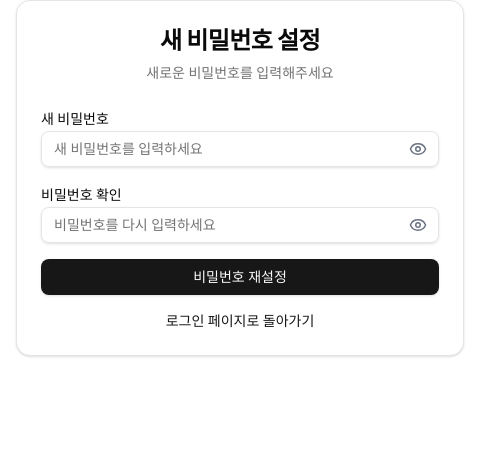
Test: ResetPasswordForm › validates password requirements
Type "weak" into the password field labelled "새 비밀번호" at x=240, y=149, box [41,131,439,167]
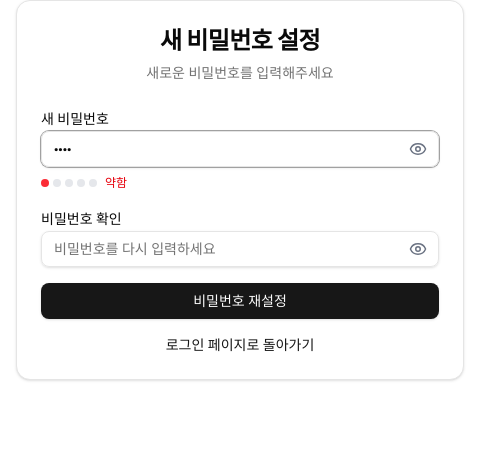
Click the button "비밀번호 재설정" at x=240, y=301, box [41,283,439,319]
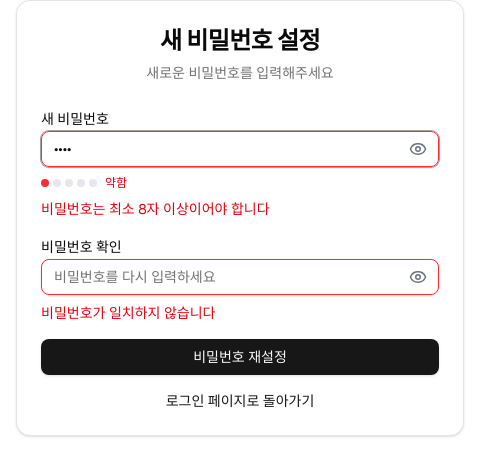
Check: the text "비밀번호는 최소 8자 이상이어야 합니다" is shown, box [41,200,270,218]
